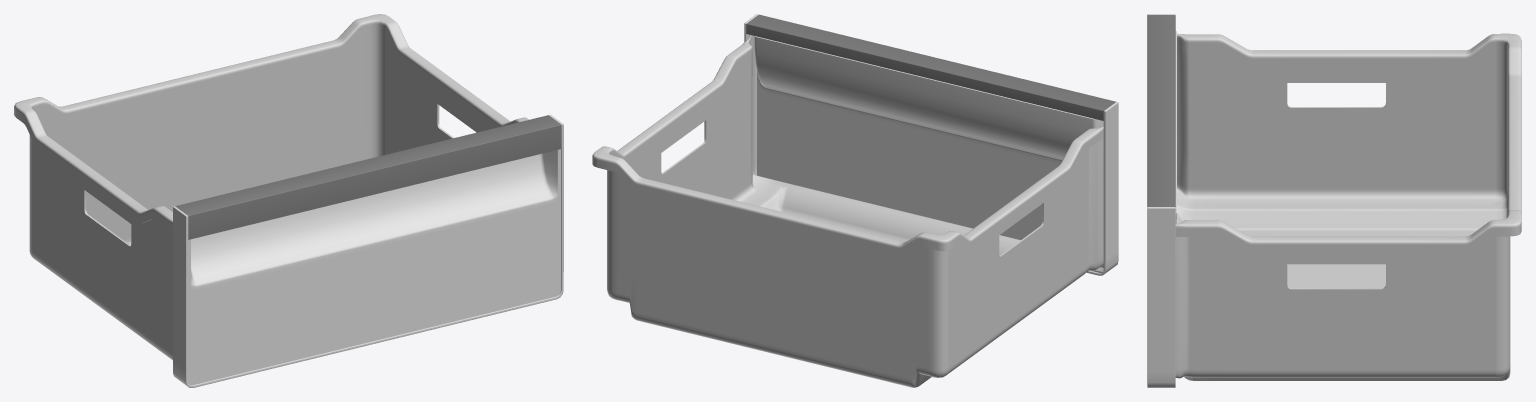
The model's file is SM_Fridge_Drawer_03.dae.
3 views of the same model, side by side, from view 1: azimuth 30°, elevation 25°; view 2: azimuth 150°, elevation 25°; view 3: azimuth 270°, elevation 25° (orthographic). The views are drawn at different scales.
Visible parts, largest first — view 1: SM_Fridge_Drawer_03; view 2: SM_Fridge_Drawer_03; view 3: SM_Fridge_Drawer_03.
Part boxes in pixels (x1,y1,x2,y2): SM_Fridge_Drawer_03: [14, 14, 563, 387]; SM_Fridge_Drawer_03: [592, 14, 1118, 387]; SM_Fridge_Drawer_03: [1147, 14, 1521, 387].
Bounding box in the file's own units: 0.409 × 0.333 × 0.192.
3 materials, 1 textured.
